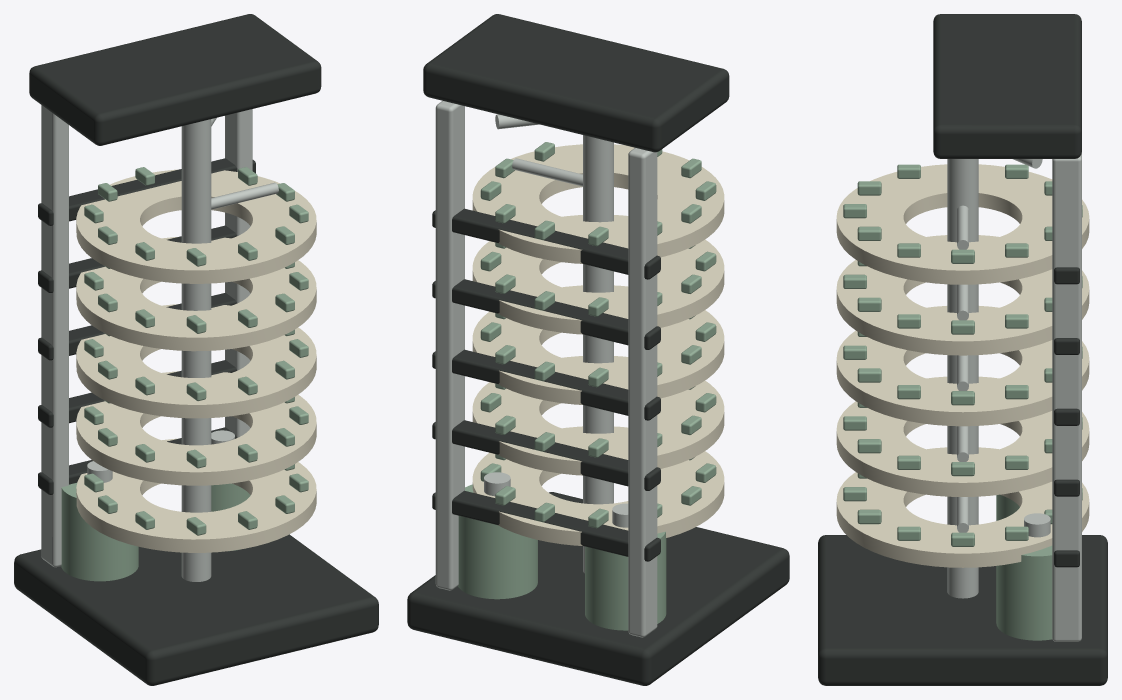
File: abandoned-telephone-exchange-selector-switch-assembly-e1b92e40__31997.glb
3 renders of one model, left to right at view 1: azimuth 30°, elevation 25°; view 2: azimuth 150°, elevation 25°; view 3: azimuth 270°, elevation 25°, orthographic. The views are drawn at different scales.
Parts seen in each view (by area): view 1: selector-switch-assembly; view 2: selector-switch-assembly; view 3: selector-switch-assembly.
Boxes of the visible parts, x1,y1,x2,y2 form: selector-switch-assembly: [14, 14, 378, 685]; selector-switch-assembly: [407, 14, 789, 685]; selector-switch-assembly: [818, 14, 1107, 685].
Bounding box in the file's own units: 0.38 × 0.83 × 0.39.
